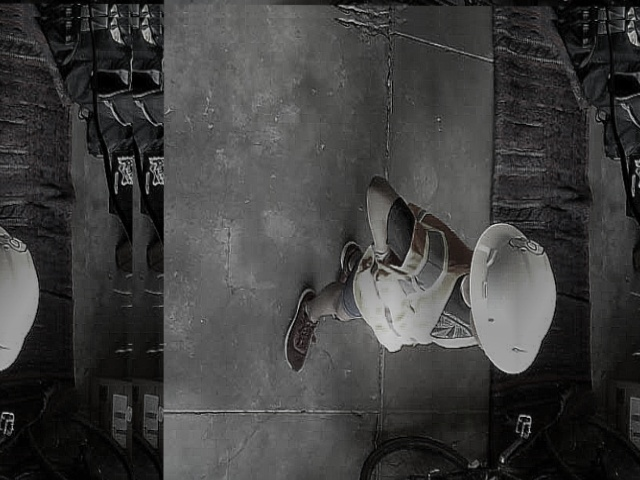eight: (508, 236, 546, 256)
